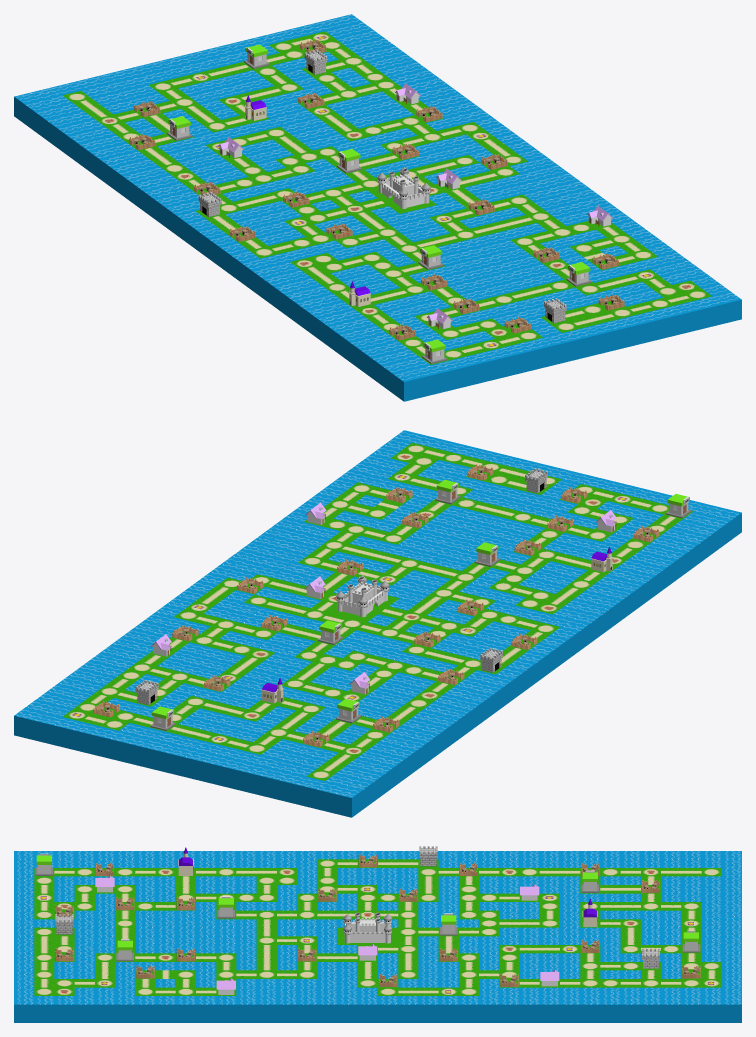
Rendered from Stage.fbx.
3 renders of one model, top to bottom at view 1: azimuth 30°, elevation 25°; view 2: azimuth 150°, elevation 25°; view 3: azimuth 270°, elevation 25°, orthographic. The views are drawn at different scales.
Visible parts, largest first — view 1: Tile_17_35_id0; view 2: Tile_17_0_id0; view 3: Tile_0_0_id0, Tile_0_1_id0, Tile_0_2_id0, Tile_0_3_id0, Tile_0_5_id0, Tile_0_6_id0, Tile_0_7_id0, Tile_0_8_id0, Tile_0_9_id0, Tile_0_10_id0, Tile_0_11_id0, Tile_0_12_id0 (+36 smaller).
Boxes of the visible parts, <box> form: Tile_17_35_id0: <box>393,369,422,401</box>; Tile_17_0_id0: <box>333,785,362,817</box>; Tile_0_0_id0: <box>721,996,741,1022</box>; Tile_0_1_id0: <box>701,996,721,1022</box>; Tile_0_2_id0: <box>681,996,701,1022</box>; Tile_0_3_id0: <box>661,996,681,1022</box>; Tile_0_5_id0: <box>620,996,640,1022</box>; Tile_0_6_id0: <box>600,996,620,1022</box>; Tile_0_7_id0: <box>580,996,600,1022</box>; Tile_0_8_id0: <box>560,996,580,1022</box>; Tile_0_9_id0: <box>539,996,559,1022</box>; Tile_0_10_id0: <box>519,996,539,1022</box>; Tile_0_11_id0: <box>499,996,519,1022</box>; Tile_0_12_id0: <box>479,996,499,1022</box>.
Size of the model in its own units: 3600 by 445 by 7200.
Materials: 38 (11 with a texture image).
